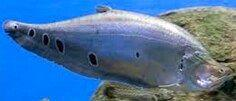Knifefish: (3, 2, 232, 93)
